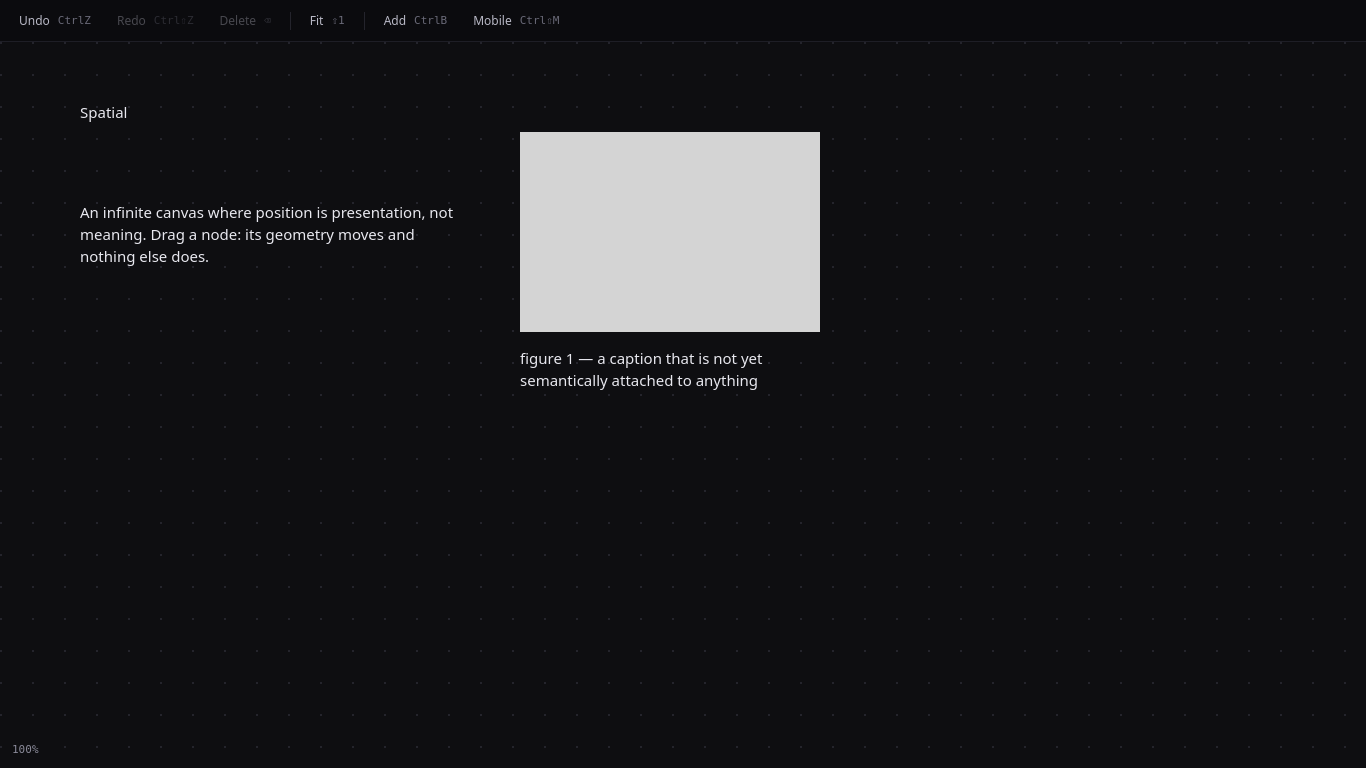
it: the delete control › enables once something is selected
Press the mouse on the element showing "Spatial": (104, 112) [80,102,128,122]
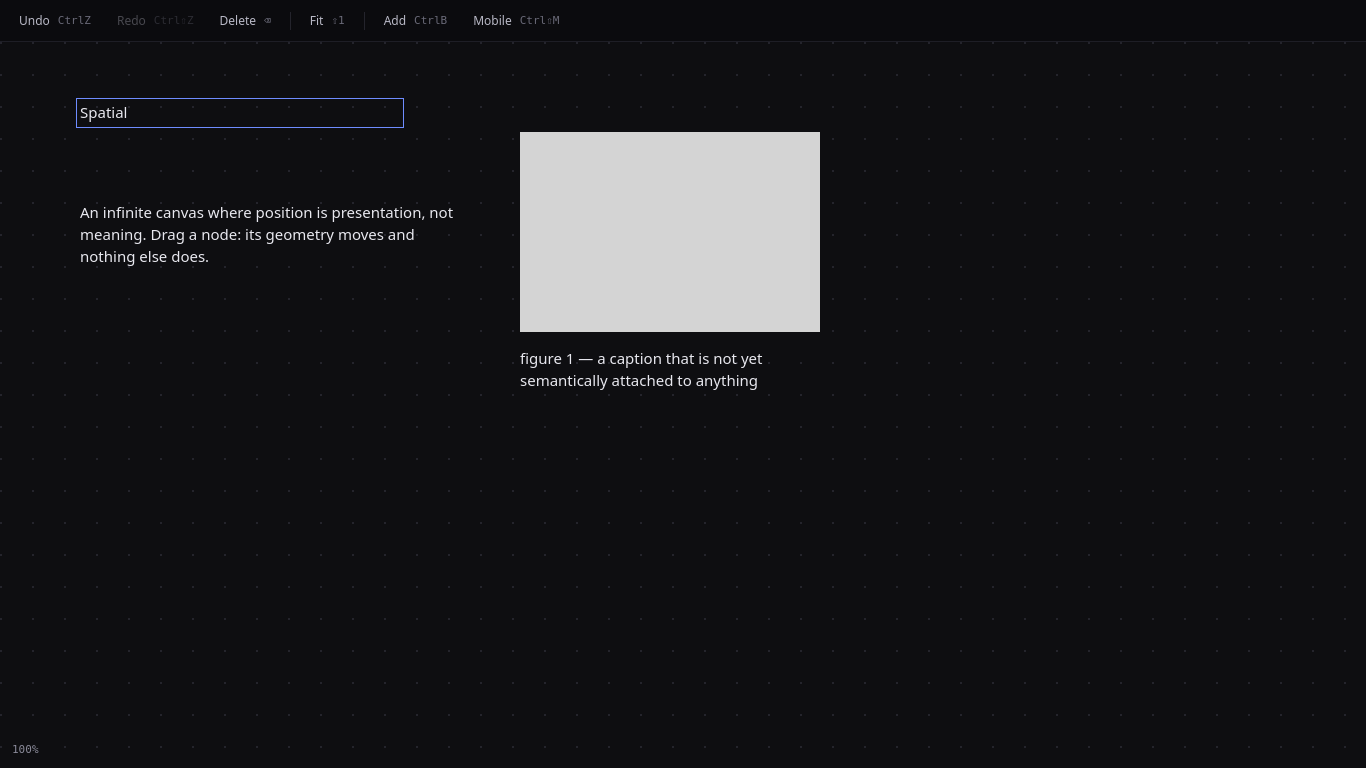
Result: the button "Delete ⌫" is enabled at [209,6,282,35]
